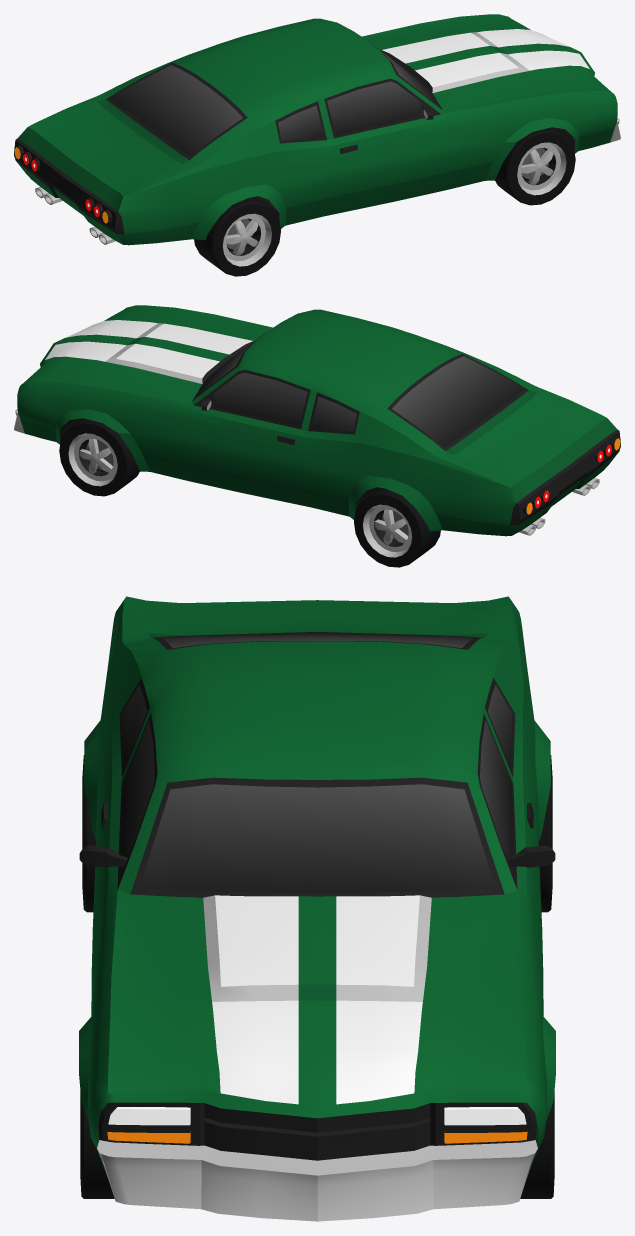
File: Car_117.glb
The picture shows the model from 3 angles, top to bottom: view 1: azimuth 30°, elevation 25°; view 2: azimuth 150°, elevation 25°; view 3: azimuth 270°, elevation 25°; orthographic projection. The views are drawn at different scales.
Parts seen in each view (by area): view 1: Car_117, wheel_3_Car_117_Wheel_2R, wheel_1_Car_117_Wheel_1R; view 2: Car_117, wheel_2_Car_117_Wheel_2L, wheel_0_Car_117_Wheel_1L; view 3: Car_117, wheel_0_Car_117_Wheel_1L, wheel_1_Car_117_Wheel_1R, wheel_3_Car_117_Wheel_2R, wheel_2_Car_117_Wheel_2L.
Boxes of the visible parts, x1,y1,x2,y2 form: Car_117: [14, 14, 620, 245]; wheel_3_Car_117_Wheel_2R: [194, 196, 280, 276]; wheel_1_Car_117_Wheel_1R: [495, 127, 575, 205]; Car_117: [14, 305, 620, 536]; wheel_2_Car_117_Wheel_2L: [354, 487, 440, 567]; wheel_0_Car_117_Wheel_1L: [59, 418, 139, 496]; Car_117: [79, 596, 555, 1221]; wheel_0_Car_117_Wheel_1L: [520, 1091, 554, 1198]; wheel_1_Car_117_Wheel_1R: [80, 1091, 114, 1198]; wheel_3_Car_117_Wheel_2R: [82, 755, 96, 912]; wheel_2_Car_117_Wheel_2L: [538, 755, 552, 912].
Bounding box in the file's own units: 5.18 × 1.45 × 2.02.
2 materials, 2 textured.
